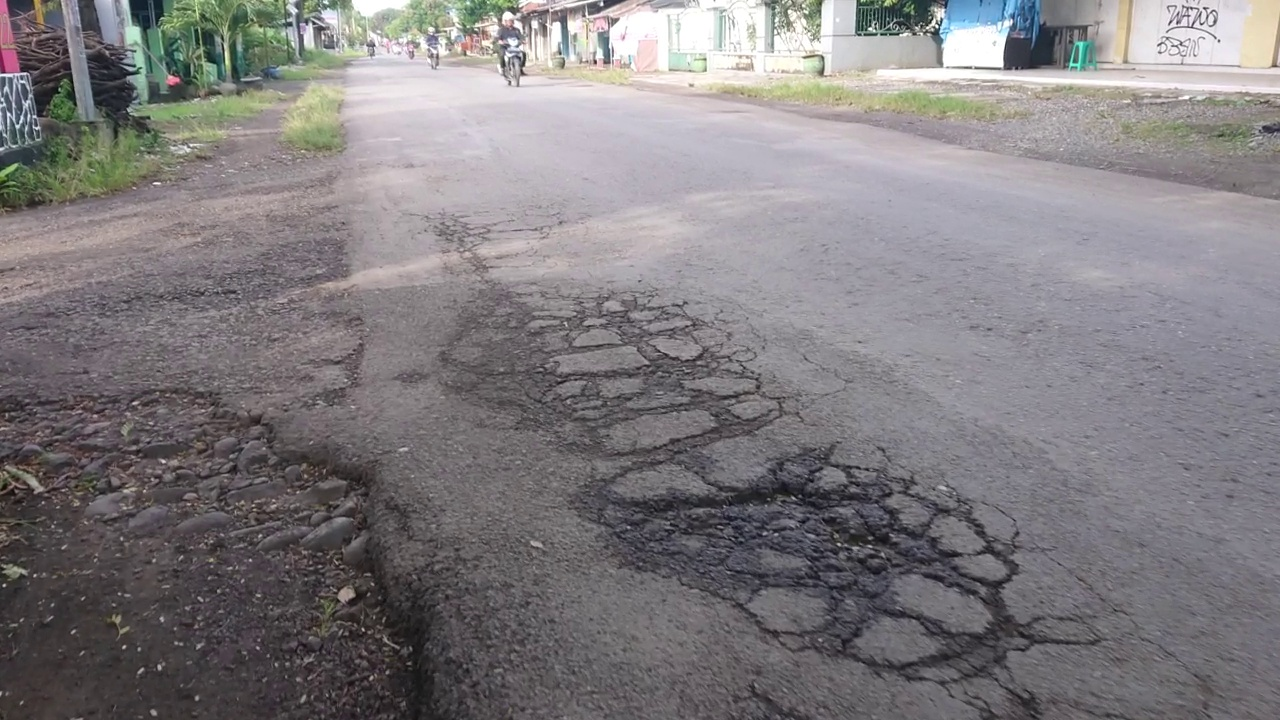Retak: (488, 315, 1008, 707)
